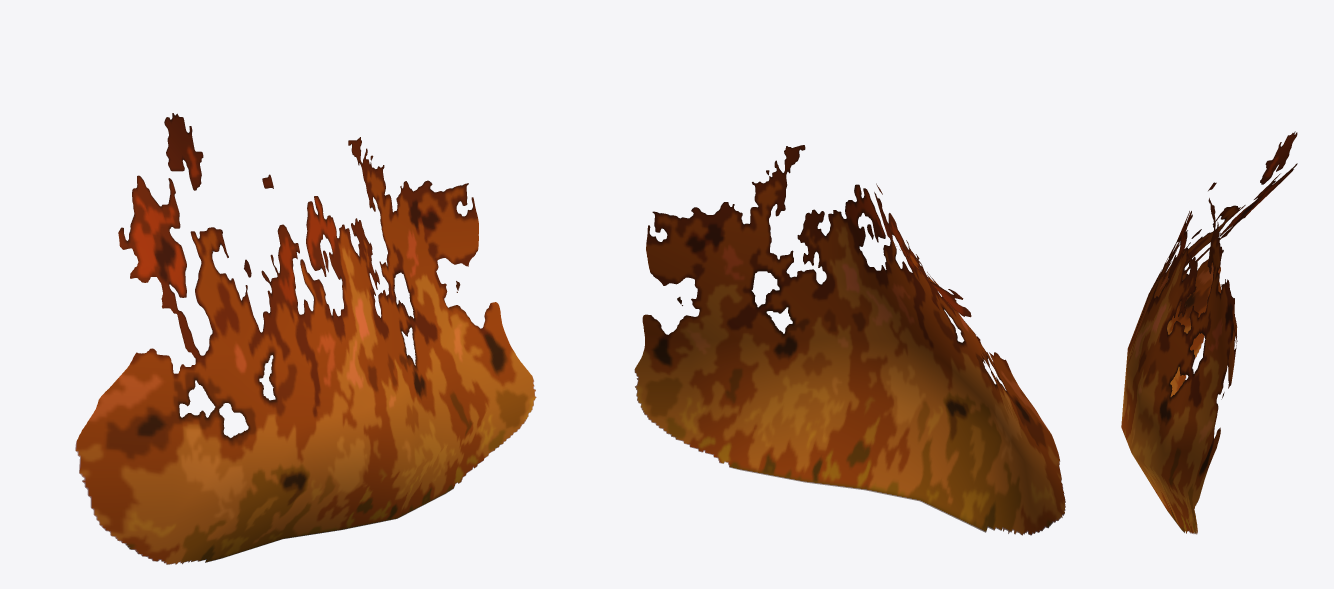
File: flameShape.fbx
3 renders of one model, left to right at view 1: azimuth 30°, elevation 25°; view 2: azimuth 150°, elevation 25°; view 3: azimuth 270°, elevation 25°, orthographic. The views are drawn at different scales.
Parts seen in each view (by area): view 1: pPlane1; view 2: pPlane1; view 3: pPlane1.
Part boxes in pixels (x1,y1,x2,y2): pPlane1: (75, 113, 536, 564); pPlane1: (634, 145, 1065, 535); pPlane1: (1121, 131, 1297, 534).
Bounding box in the file's own units: 3.07 × 2.65 × 1.23.
